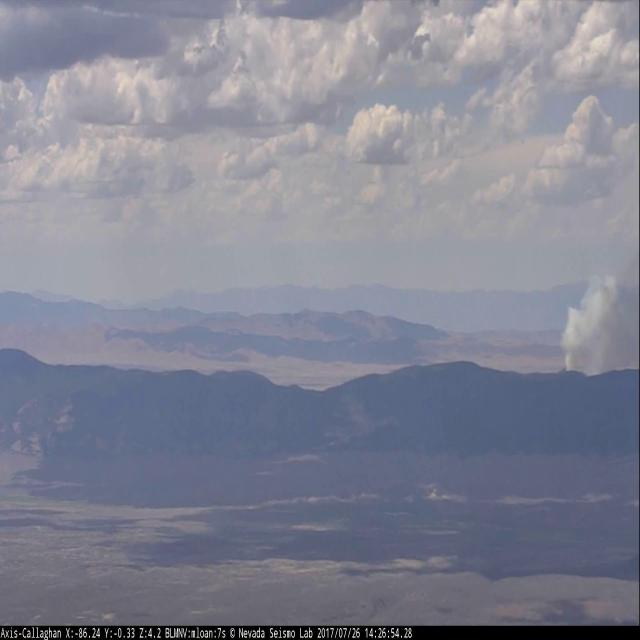smoke: (557, 266, 640, 369)
